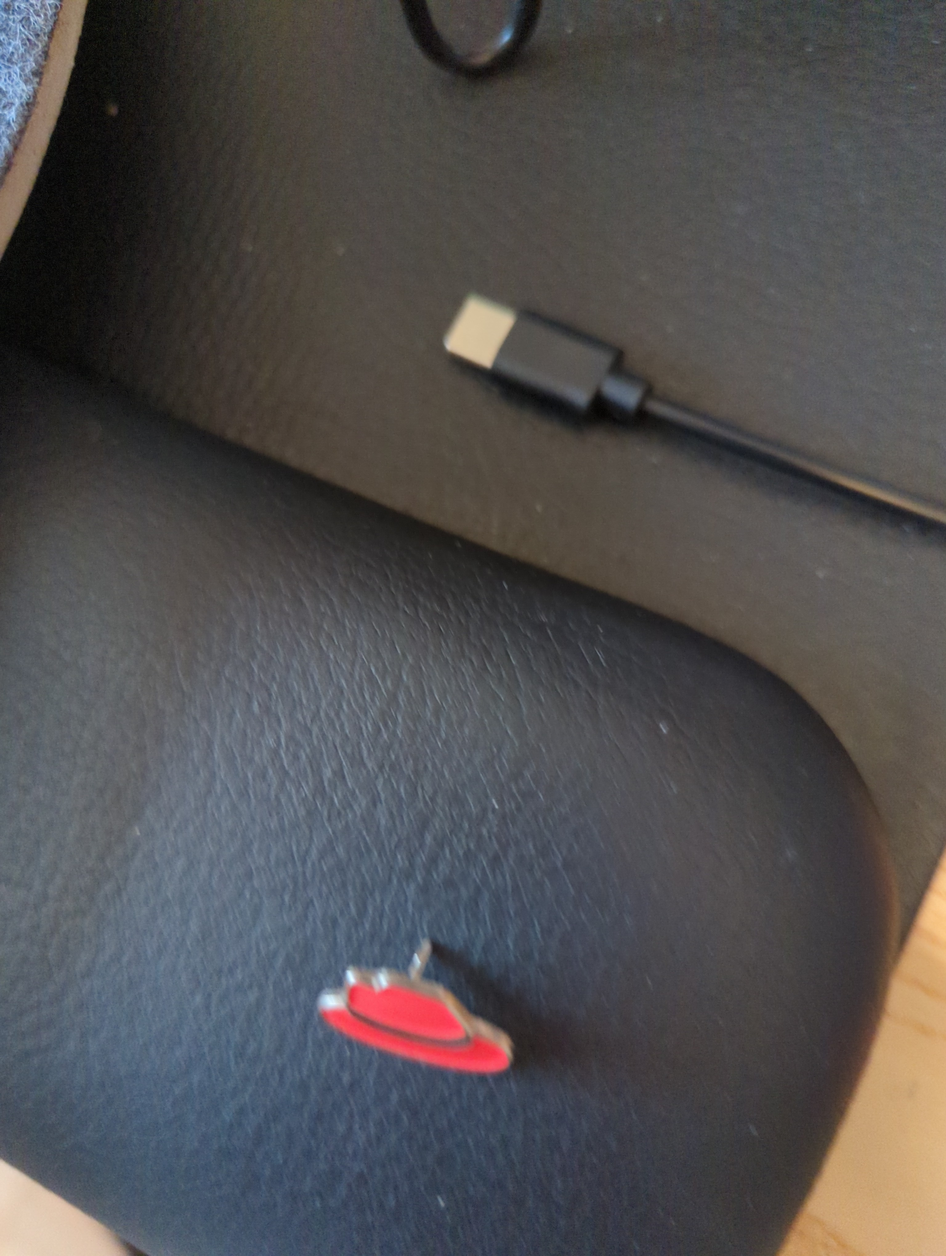Red-Hat: (260, 869, 582, 1124)
